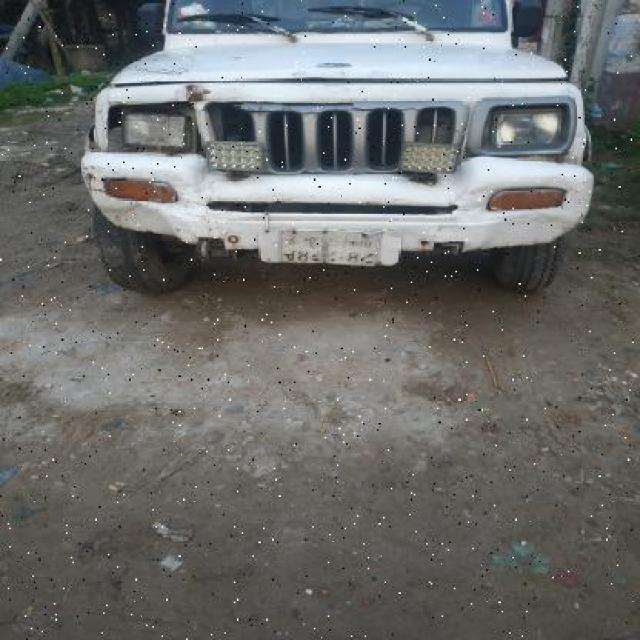numberplate: (276, 228, 398, 266)
